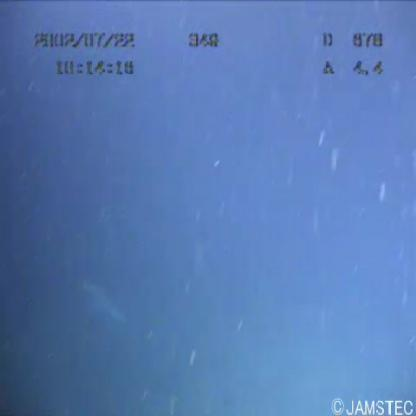Rác: (77, 264, 153, 335)
